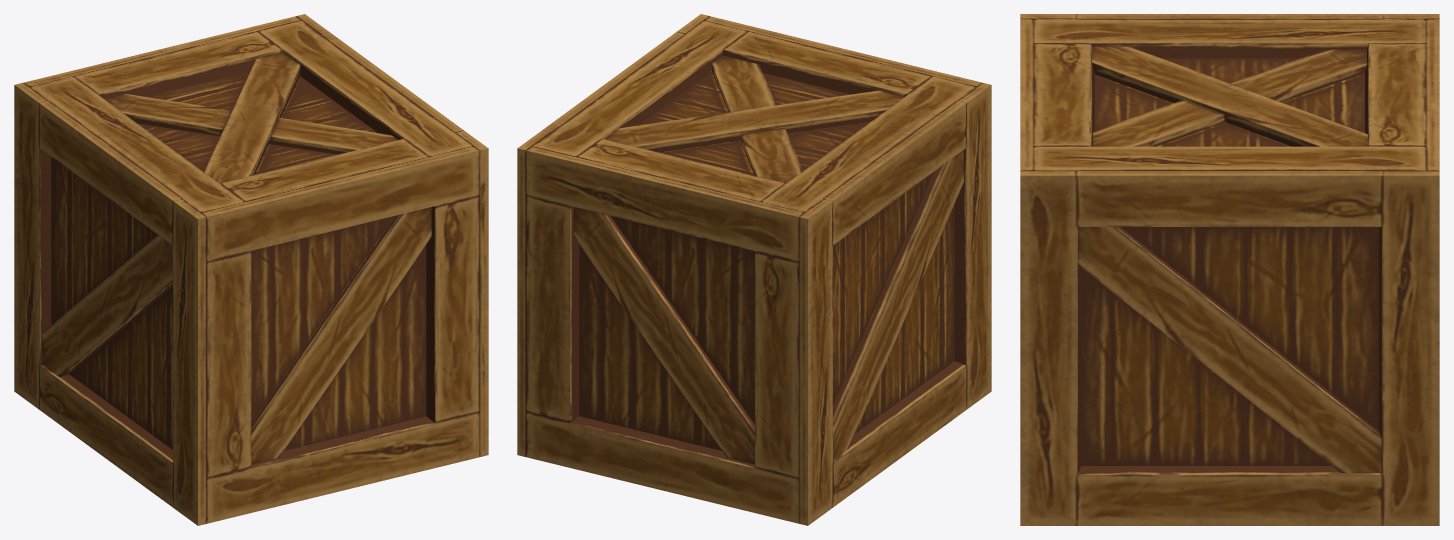
Rendered from crate_box.glb.
The picture shows the model from 3 angles, left to right: view 1: azimuth 30°, elevation 25°; view 2: azimuth 150°, elevation 25°; view 3: azimuth 270°, elevation 25°; orthographic projection. The views are drawn at different scales.
Parts seen in each view (by area): view 1: box_v1-2_low, box_wood_v1-2_low; view 2: box_v1-2_low, box_wood_v1-2_low; view 3: box_v1-2_low, box_wood_v1-2_low.
Boxes of the visible parts, box(x1,y1,x2,y2) form: box_v1-2_low: box(14, 14, 488, 525); box_wood_v1-2_low: box(42, 52, 431, 464); box_v1-2_low: box(517, 14, 991, 525); box_wood_v1-2_low: box(574, 55, 963, 464); box_v1-2_low: box(1020, 14, 1439, 525); box_wood_v1-2_low: box(1078, 46, 1381, 472).
Size of the model in its own units: 2.16 by 2.18 by 2.36.
Materials: 2 (2 with a texture image).
